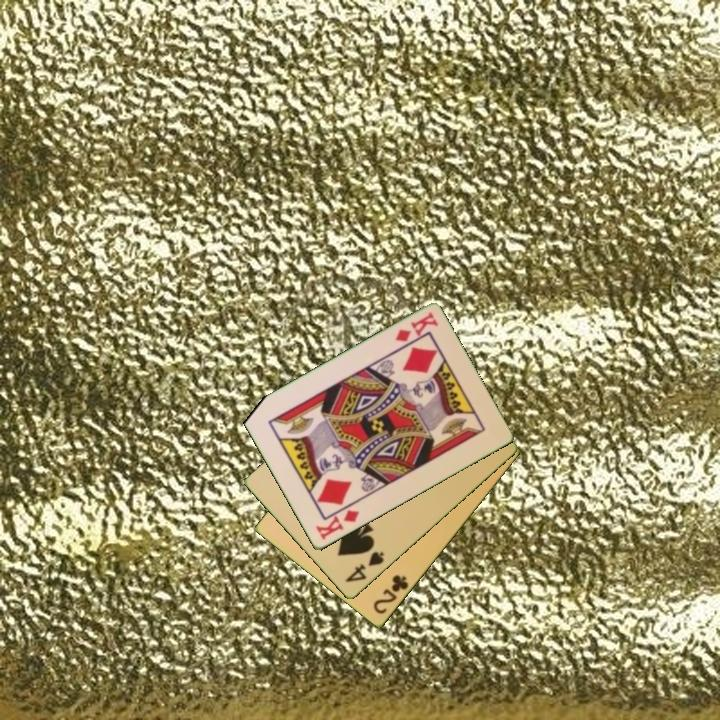2c: (370, 572, 411, 617)
4s: (341, 548, 387, 586)
Kd: (312, 507, 362, 544), (392, 309, 441, 345)
